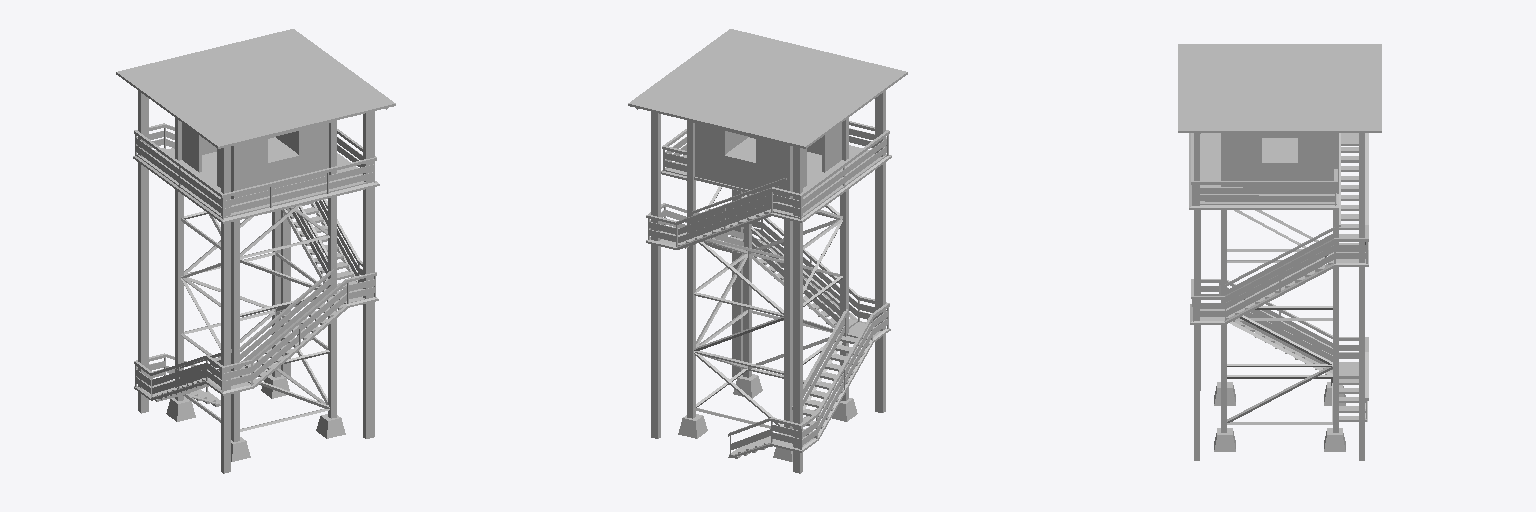
Rendered from watch_tower.obj.
3 views of the same model, side by side, from view 1: azimuth 30°, elevation 25°; view 2: azimuth 150°, elevation 25°; view 3: azimuth 270°, elevation 25° (orthographic).
Parts seen in each view (by area): view 1: watchtowerHigh_watchtower.003; view 2: watchtowerHigh_watchtower.003; view 3: watchtowerHigh_watchtower.003.
Boxes of the visible parts, box(x1,y1,x2,y2) form: watchtowerHigh_watchtower.003: box(116, 29, 395, 473); watchtowerHigh_watchtower.003: box(628, 29, 907, 473); watchtowerHigh_watchtower.003: box(1178, 44, 1381, 460).
Size of the model in its own units: 17.07 by 30.92 by 17.07.